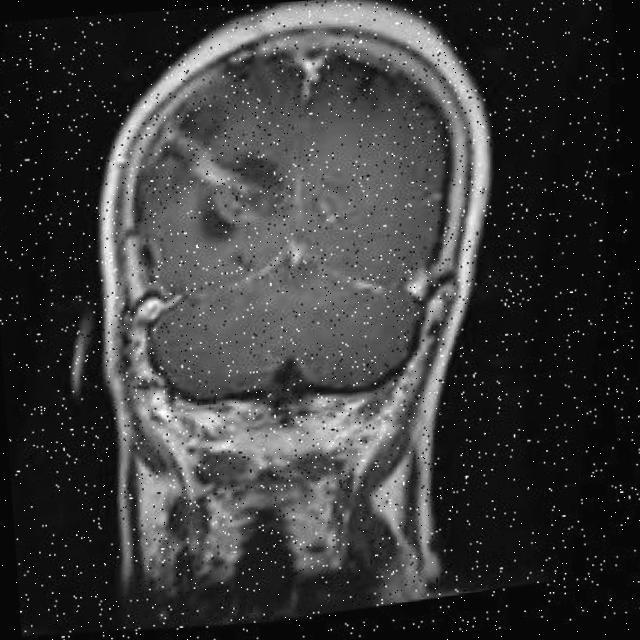LMCI: (157, 130, 413, 305)
